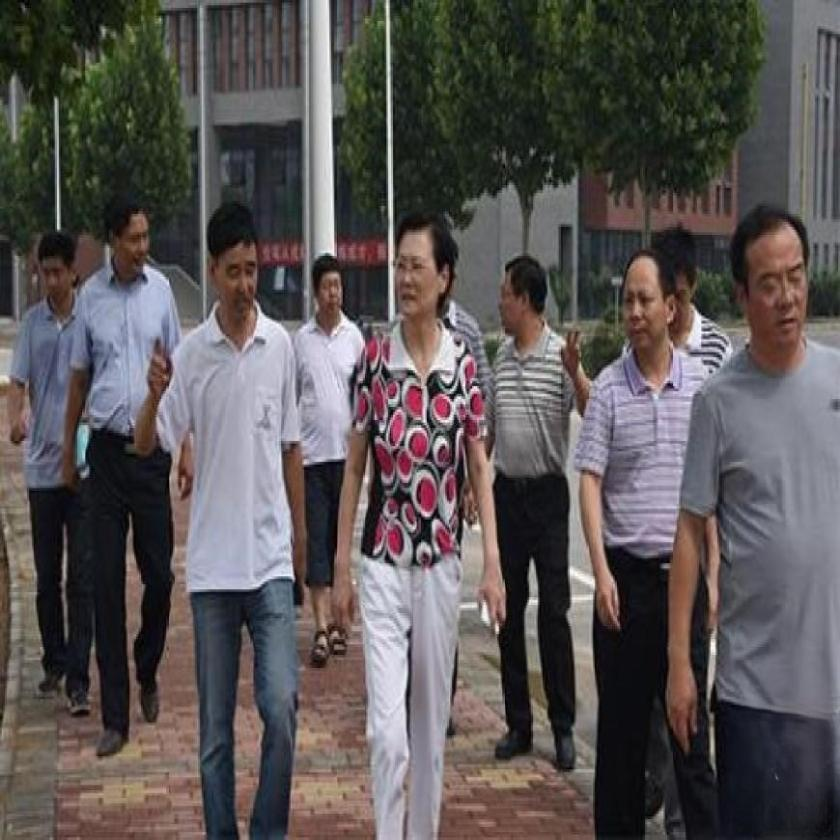Sin_casco: (731, 203, 811, 355), (199, 194, 261, 332), (394, 211, 457, 339), (651, 222, 702, 334), (618, 247, 671, 354), (100, 191, 155, 287), (496, 256, 552, 348), (35, 231, 78, 312), (310, 255, 344, 324)
